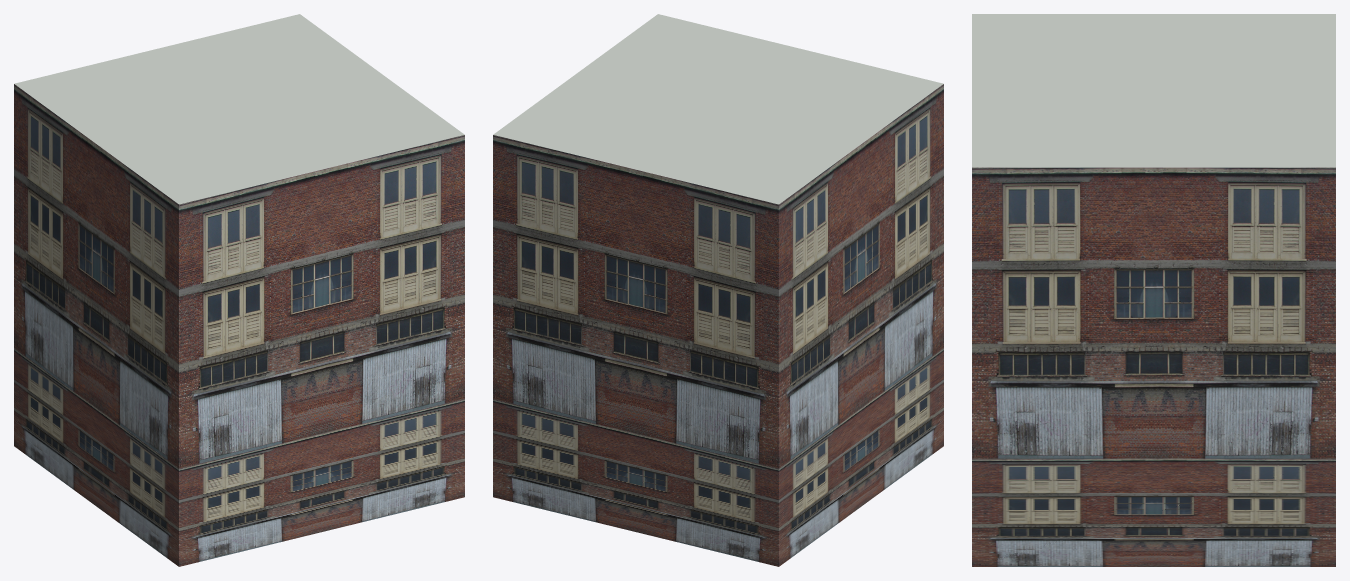
Rendered from BagBuilding3_0.fbx.
3 views of the same model, side by side, from view 1: azimuth 30°, elevation 25°; view 2: azimuth 150°, elevation 25°; view 3: azimuth 270°, elevation 25° (orthographic). The views are drawn at different scales.
Parts seen in each view (by area): view 1: Box0, roofA0, BoxA0; view 2: Box0, roofA0, BoxA0; view 3: Box0, roofA0, BoxA0.
Part boxes in pixels (x1,y1,x2,y2): Box0: [14, 84, 464, 468]; roofA0: [14, 14, 464, 204]; BoxA0: [14, 348, 464, 566]; Box0: [493, 84, 943, 468]; roofA0: [493, 14, 943, 204]; BoxA0: [493, 348, 943, 566]; Box0: [972, 167, 1335, 458]; roofA0: [972, 14, 1335, 167]; BoxA0: [972, 458, 1335, 566].
Bounding box in the file's own units: 16.33 × 19.78 × 16.33.
